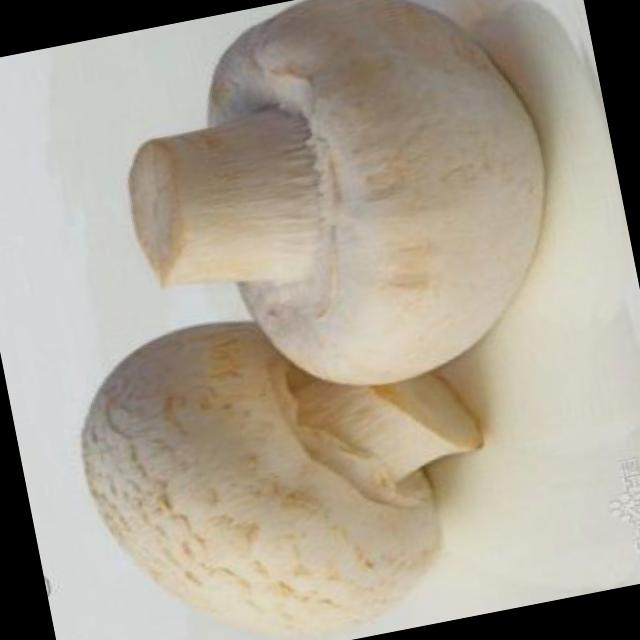Agaricus bisporus: (100, 0, 585, 428), (60, 274, 513, 640)
